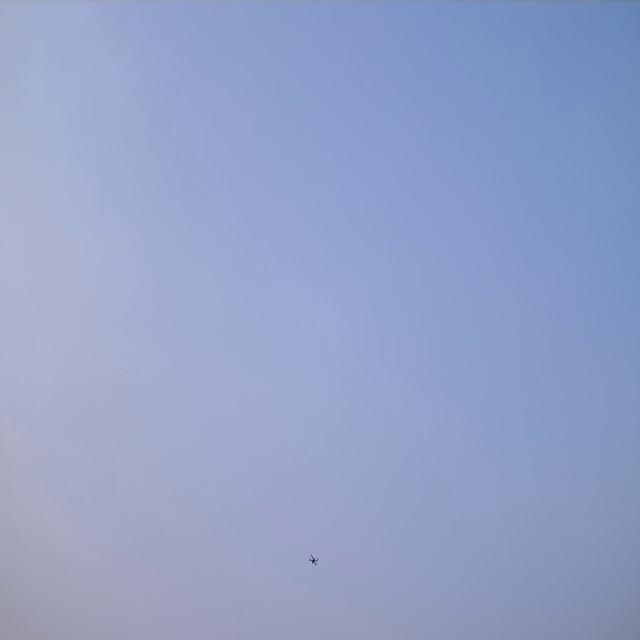UAV: (308, 553, 319, 568)
